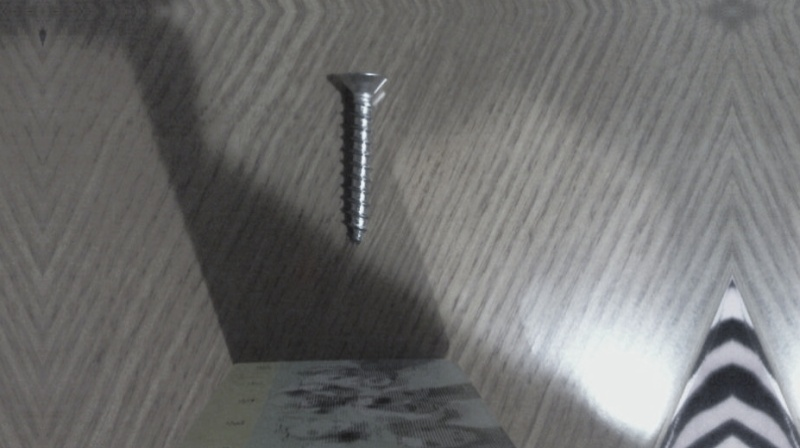S001: (328, 66, 392, 253)
